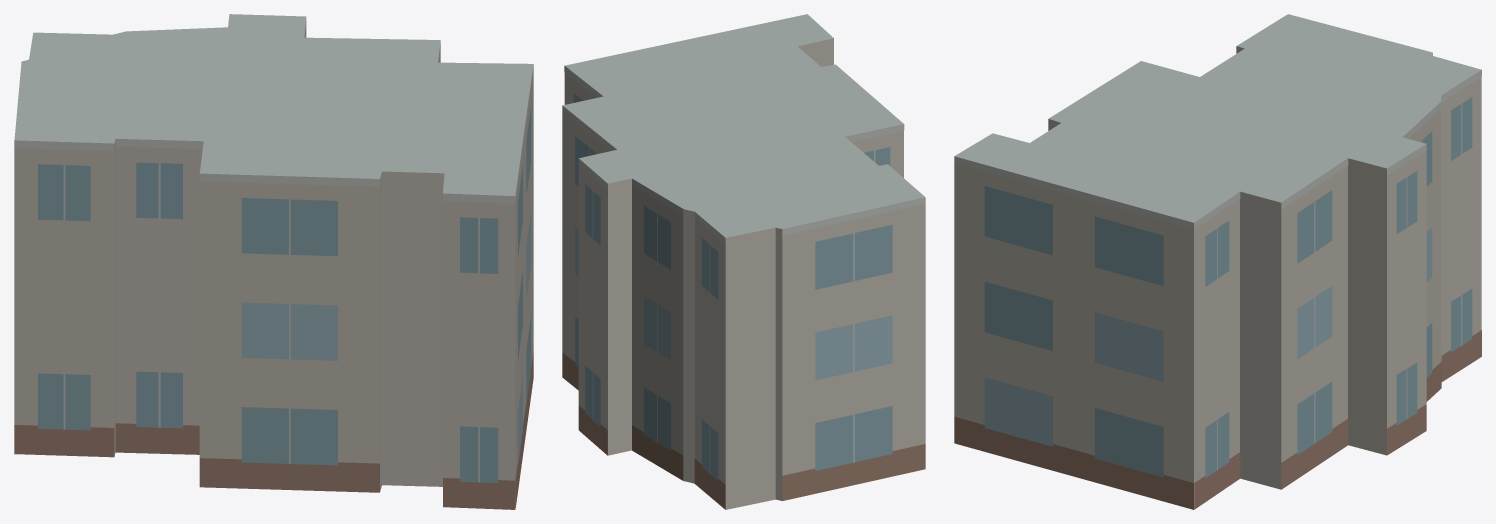
Rendered from survey-upis-32469825.glb.
3 renders of one model, left to right at view 1: azimuth 30°, elevation 25°; view 2: azimuth 150°, elevation 25°; view 3: azimuth 270°, elevation 25°, orthographic. The views are drawn at different scales.
Visible parts, largest first — view 1: survey-upis-32469825.tmp; view 2: survey-upis-32469825.tmp; view 3: survey-upis-32469825.tmp.
Boxes of the visible parts, box(x1,y1,x2,y2) form: survey-upis-32469825.tmp: box(14, 14, 533, 509); survey-upis-32469825.tmp: box(562, 14, 925, 509); survey-upis-32469825.tmp: box(954, 14, 1481, 509).
Size of the model in its own units: 15.38 by 9.85 by 16.41.
